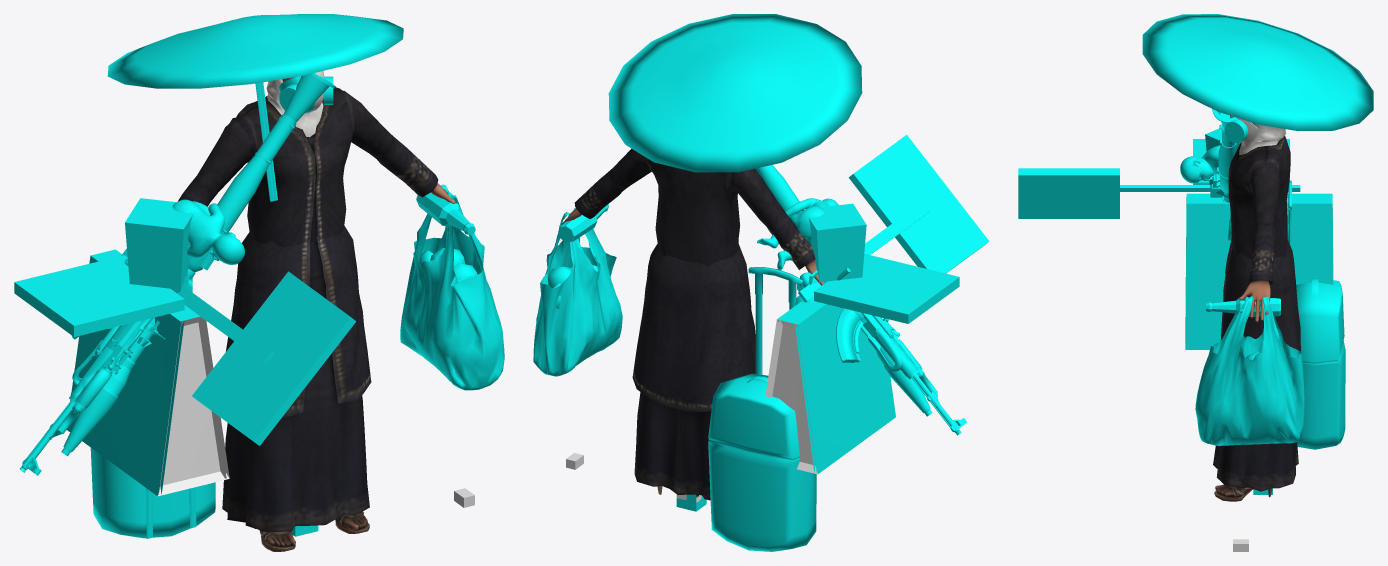
The model's file is civilian0_arab.dae.
3 renders of one model, left to right at view 1: azimuth 30°, elevation 25°; view 2: azimuth 150°, elevation 25°; view 3: azimuth 270°, elevation 25°, orthographic. The views are drawn at different scales.
Parts seen in each view (by area): view 1: center, ProtestSign, Handbag06, ShoppingBag, UpBody, Umbrella002, Handbag07, trolley, Umbrella1, Handbag01, RPG7, Handbag03 (+11 smaller); view 2: center, Umbrella002, trolley, Umbrella1, ProtestSign, Handbag06, ShoppingBag, UpBody, Handbag07, ak47, Handbag02, Handbag04 (+11 smaller); view 3: Umbrella1, ShoppingBag, Handbag05, trolley, center, Umbrella002, ProtestSign, UpBody, LowArm2, UpArm2, RPG7, SittingBaby (+4 smaller).
Part boxes in pixels (x1=…): center: x1=222, y1=226, x2=371, y2=532; ProtestSign: x1=121, y1=248, x2=356, y2=445; Handbag06: x1=67, y1=255, x2=225, y2=496; ShoppingBag: x1=400, y1=184, x2=504, y2=390; UpBody: x1=236, y1=87, x2=355, y2=247; Umbrella002: x1=107, y1=19, x2=347, y2=201; Handbag07: x1=14, y1=255, x2=184, y2=336; trolley: x1=90, y1=278, x2=215, y2=538; Umbrella1: x1=235, y1=14, x2=403, y2=200; Handbag01: x1=125, y1=198, x2=198, y2=292; RPG7: x1=140, y1=73, x2=335, y2=340; Handbag03: x1=91, y1=250, x2=225, y2=485; center: x1=632, y1=243, x2=755, y2=500; Umbrella002: x1=658, y1=14, x2=862, y2=172; trolley: x1=708, y1=267, x2=816, y2=551; Umbrella1: x1=608, y1=14, x2=812, y2=171; ProtestSign: x1=798, y1=135, x2=989, y2=302; Handbag06: x1=768, y1=302, x2=895, y2=474; ShoppingBag: x1=533, y1=208, x2=622, y2=376; UpBody: x1=645, y1=157, x2=740, y2=266; Handbag07: x1=814, y1=254, x2=959, y2=323; ak47: x1=800, y1=272, x2=966, y2=435; Handbag02: x1=803, y1=204, x2=866, y2=284; Handbag04: x1=768, y1=302, x2=817, y2=472; Umbrella1: x1=1142, y1=36, x2=1373, y2=183; ShoppingBag: x1=1195, y1=296, x2=1304, y2=445; Handbag05: x1=1185, y1=199, x2=1333, y2=349; trolley: x1=1288, y1=180, x2=1345, y2=449; center: x1=1213, y1=237, x2=1300, y2=491; Umbrella002: x1=1142, y1=14, x2=1373, y2=180; ProtestSign: x1=1018, y1=168, x2=1300, y2=218; UpBody: x1=1228, y1=136, x2=1290, y2=258; LowArm2: x1=1239, y1=225, x2=1275, y2=321; UpArm2: x1=1249, y1=165, x2=1279, y2=228; RPG7: x1=1206, y1=109, x2=1237, y2=202; SittingBaby: x1=1180, y1=143, x2=1237, y2=183.
Size of the model in its own units: 1029 by 1097 by 825.
